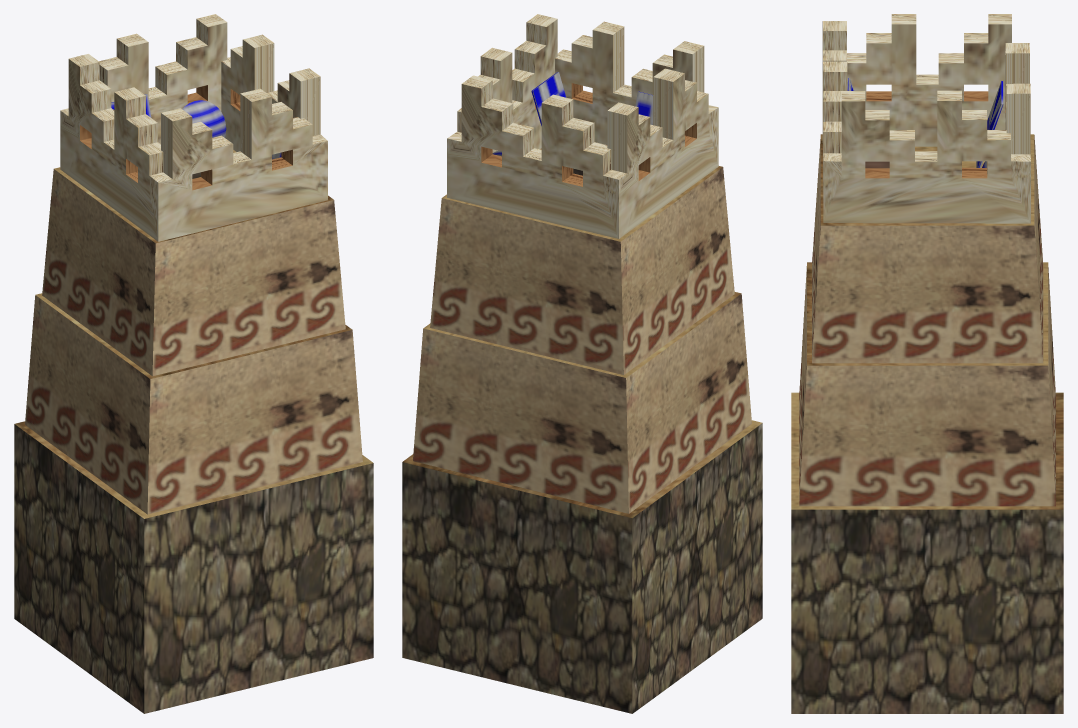
The model's file is wall_tower.dae.
The picture shows the model from 3 angles, left to right: view 1: azimuth 30°, elevation 25°; view 2: azimuth 150°, elevation 25°; view 3: azimuth 270°, elevation 25°; orthographic projection. The views are drawn at different scales.
Parts seen in each view (by area): view 1: wall_tower; view 2: wall_tower; view 3: wall_tower.
Boxes of the visible parts, box(x1,y1,x2,y2) form: wall_tower: box(14, 14, 373, 713); wall_tower: box(402, 14, 762, 713); wall_tower: box(791, 14, 1063, 713).
Size of the model in its own units: 7.19 by 7.05 by 17.11.
